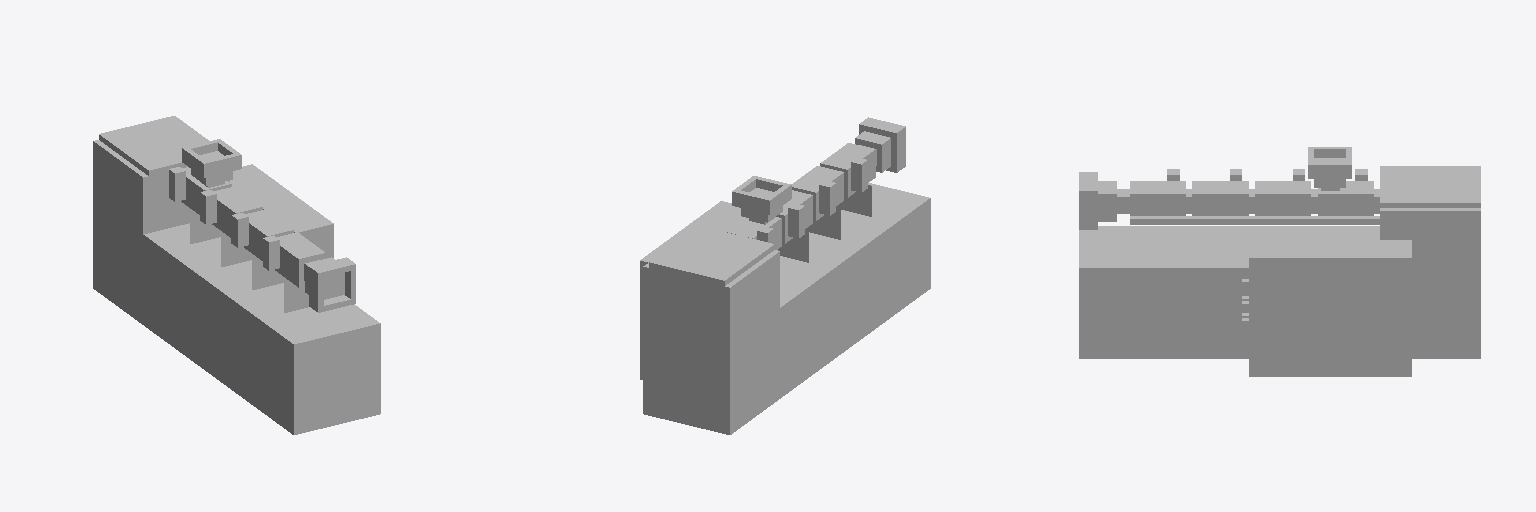
File: extruder.obj
The picture shows the model from 3 angles: view 1: azimuth 30°, elevation 25°; view 2: azimuth 150°, elevation 25°; view 3: azimuth 270°, elevation 25°; orthographic projection.
Size of the model in its own units: 1.44 by 2 by 4.